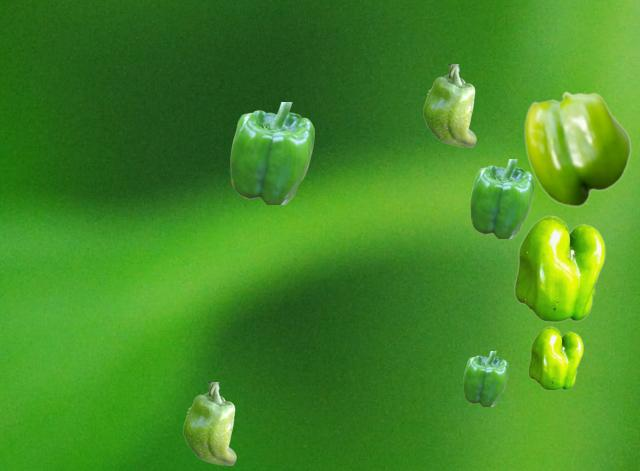bell_pepper: (524, 91, 630, 206), (514, 215, 604, 321), (230, 102, 313, 203), (470, 159, 533, 237), (183, 382, 235, 464), (423, 64, 475, 146), (528, 326, 582, 389), (463, 351, 507, 405)
